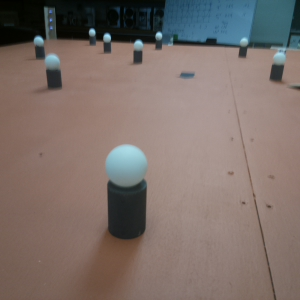obstacle: (105, 144, 149, 241), (45, 54, 62, 88), (271, 51, 286, 83), (33, 36, 46, 60), (132, 39, 144, 64), (102, 32, 113, 54), (153, 32, 165, 52), (87, 27, 97, 46), (239, 36, 248, 57)
